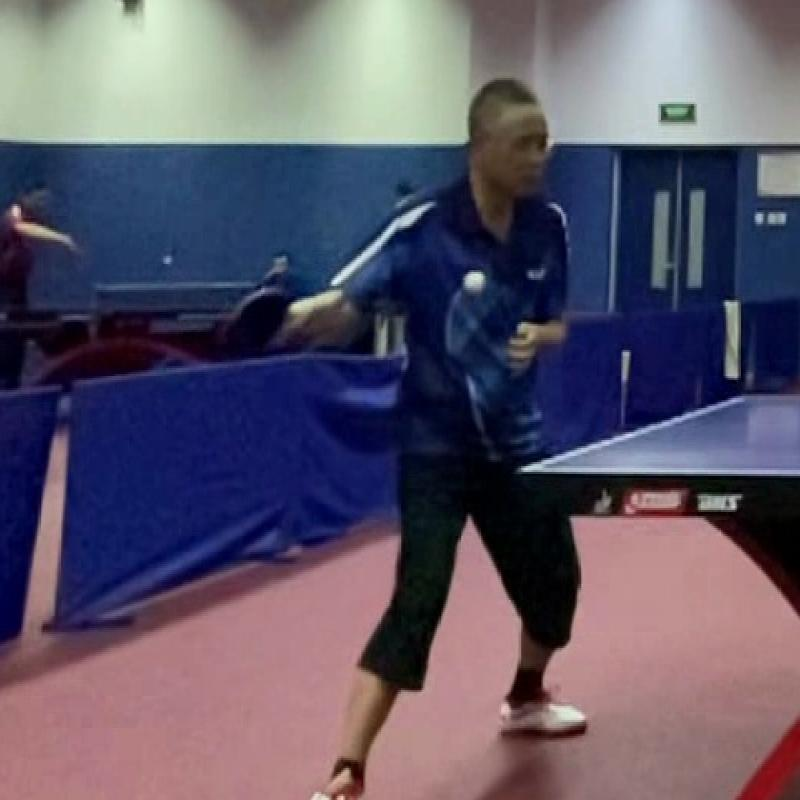bats: (205, 264, 300, 368)
